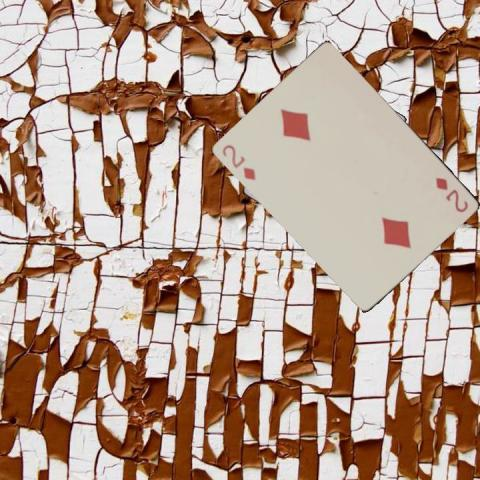2d: (219, 141, 258, 182), (433, 174, 470, 214)
